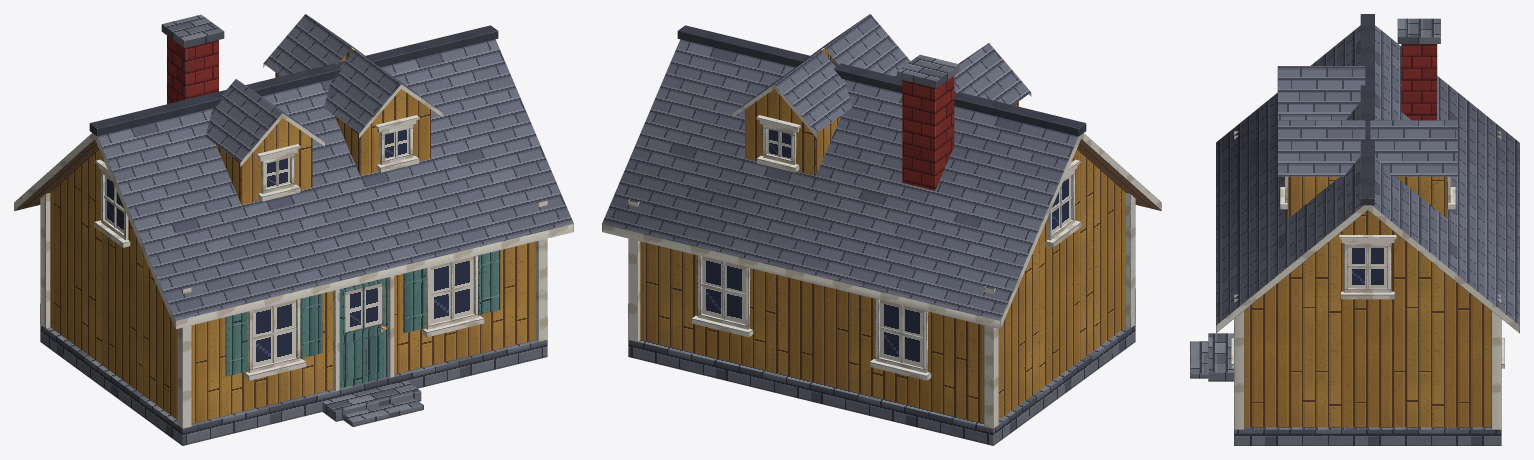
File: town_house_1.glb
3 renders of one model, left to right at view 1: azimuth 30°, elevation 25°; view 2: azimuth 150°, elevation 25°; view 3: azimuth 270°, elevation 25°, orthographic. The views are drawn at different scales.
Parts seen in each view (by area): view 1: town_house_2; view 2: town_house_2; view 3: town_house_2.
Part boxes in pixels (x1,y1,x2,y2): town_house_2: [14, 14, 573, 445]; town_house_2: [602, 14, 1161, 445]; town_house_2: [1190, 14, 1519, 445].
Bounding box in the file's own units: 8.46 × 6.44 × 6.4.
10 materials, 10 textured.
